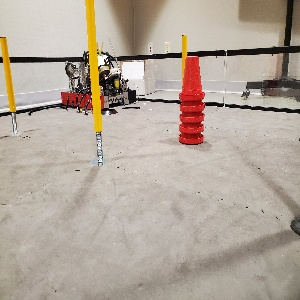Red_5: (156, 31, 221, 158)
